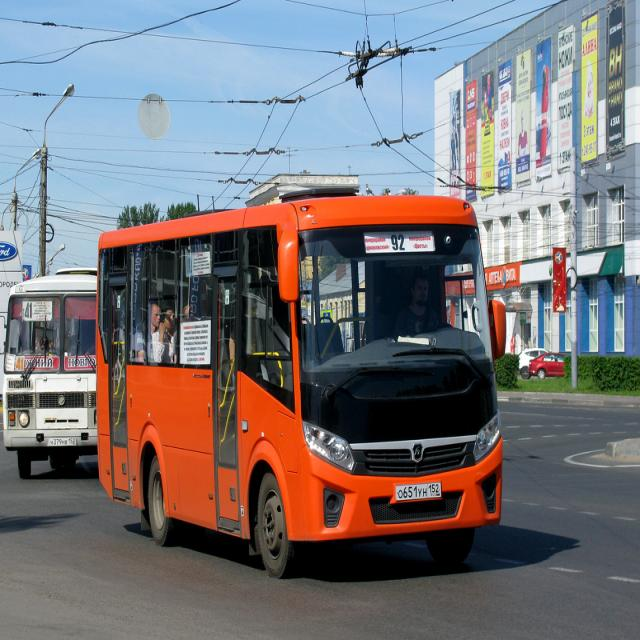number-of-bus: (391, 231, 409, 254)
